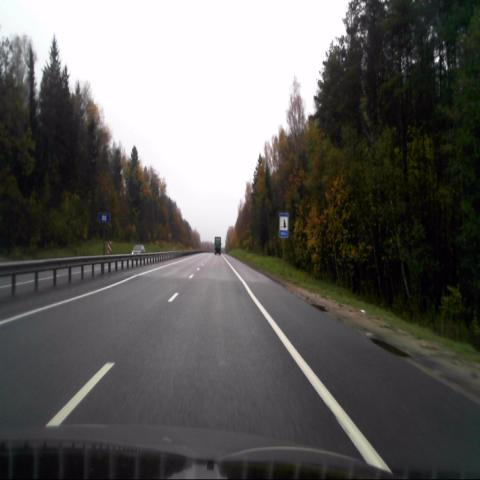7_11: (279, 214, 289, 238)
